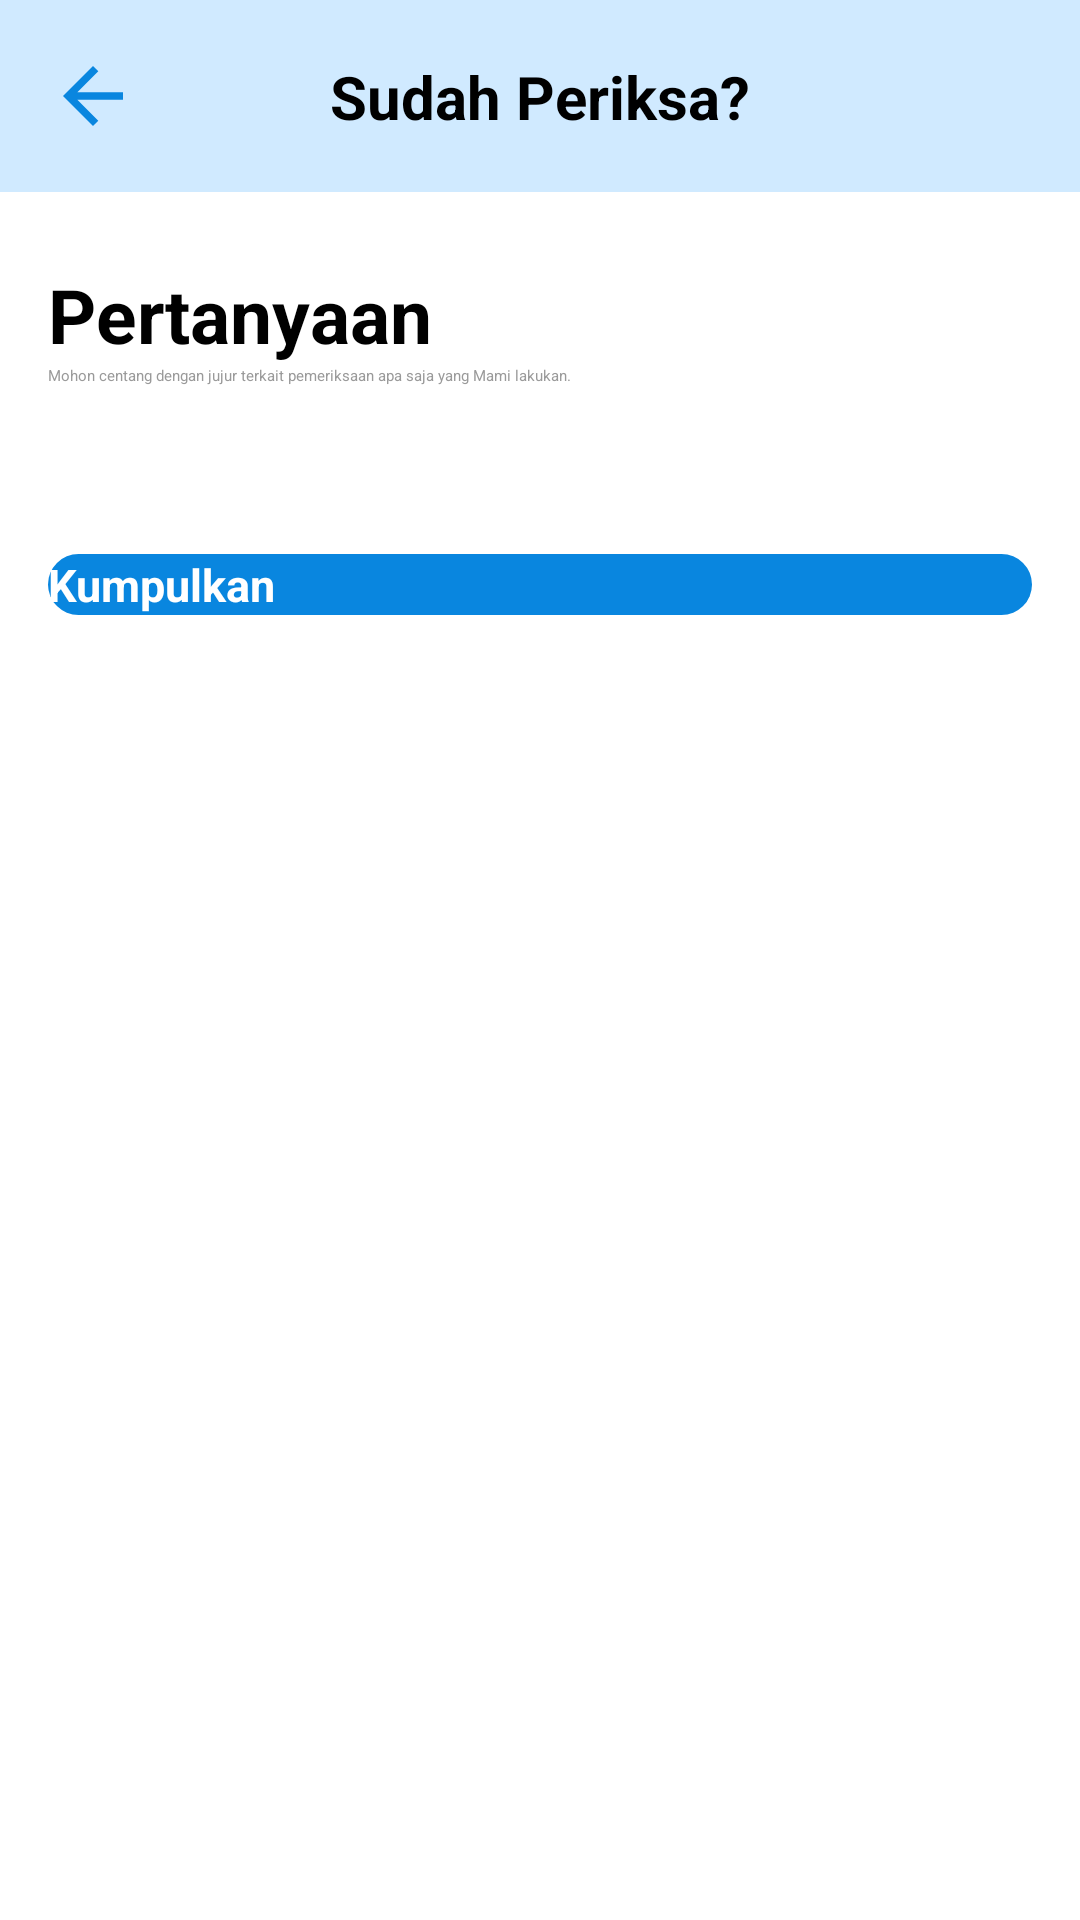

Point at icon controls on the screen. Image size 1080*1920, points as point (x, y).
arrow back: point (93, 96)
